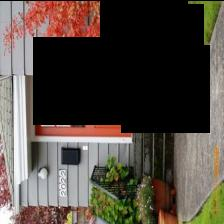orange: (36, 75, 133, 135), (96, 108, 123, 126)
